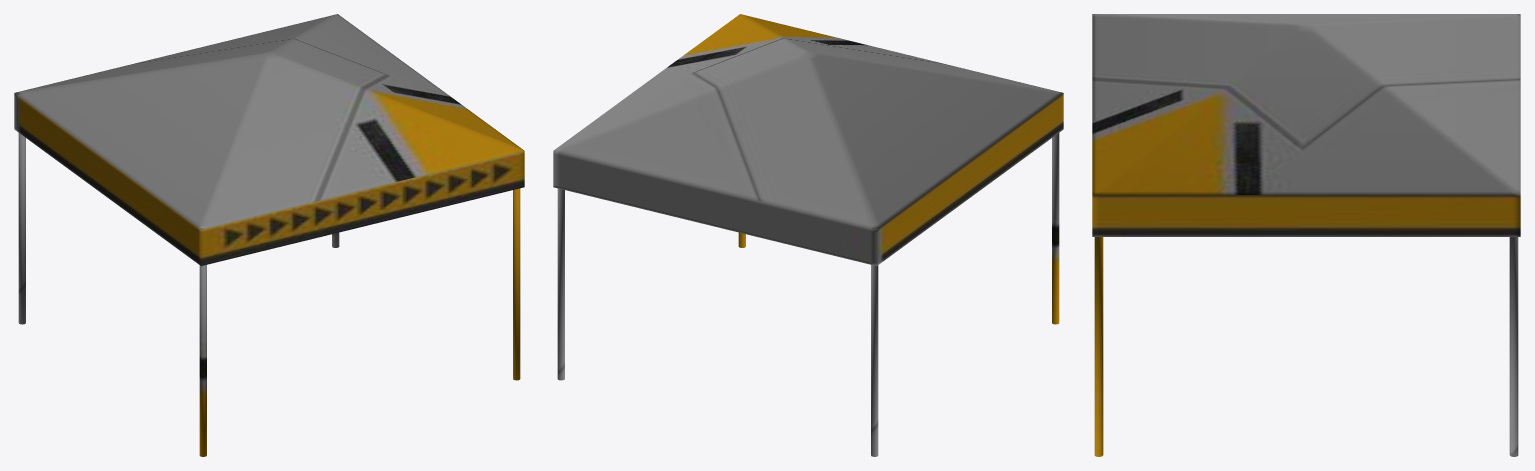
The model's file is defaultgazeebo.glb.
The picture shows the model from 3 angles, left to right: view 1: azimuth 30°, elevation 25°; view 2: azimuth 150°, elevation 25°; view 3: azimuth 270°, elevation 25°; orthographic projection. The views are drawn at different scales.
Parts seen in each view (by area): view 1: DefaultGazeebo; view 2: DefaultGazeebo; view 3: DefaultGazeebo.
Part boxes in pixels (x1=…): DefaultGazeebo: x1=14, y1=14, x2=524, y2=456; DefaultGazeebo: x1=553, y1=14, x2=1063, y2=456; DefaultGazeebo: x1=1092, y1=14, x2=1520, y2=456.
Size of the model in its own units: 3 by 2.63 by 3.
Materials: 1 (1 with a texture image).
